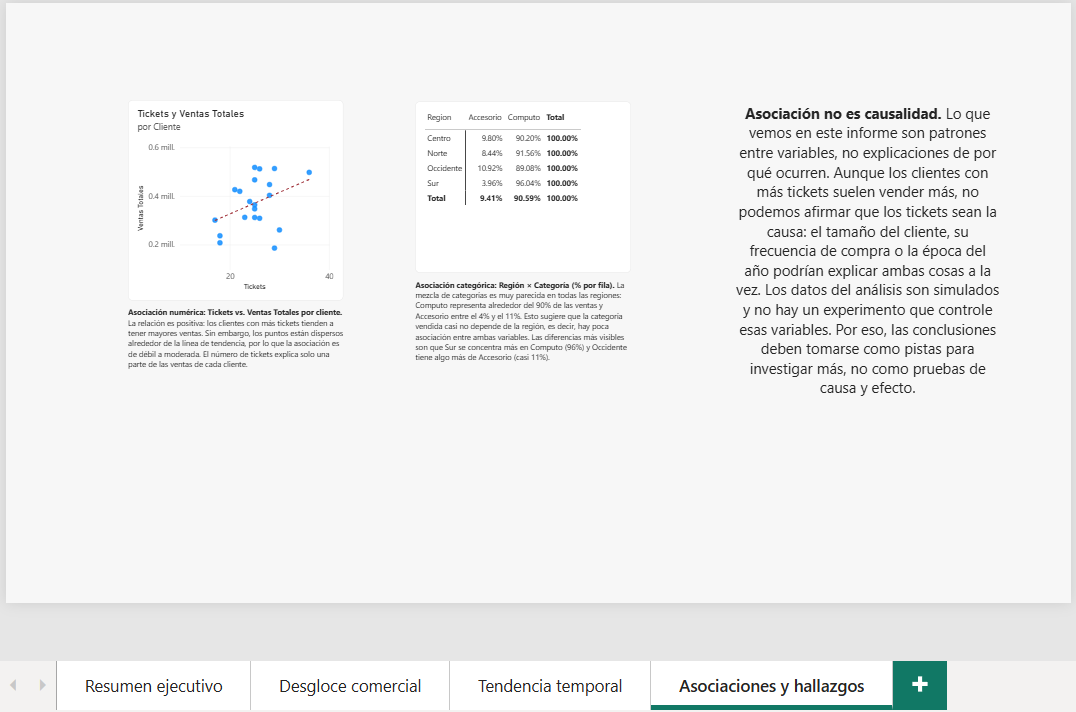

The dashboard page shown, as its layout file describes it:
{"tool":"powerbi","page":{"name":"Asociaciones y hallazgos","canvas":[1920,1080],"ordinal":3},"visuals":[{"type":"scatterChart","fields":{"Category":["Dim Cliente.Cliente"],"X":["Medidas.Tickets"],"Y":["Medidas.Ventas Totales"]},"box":[219,175.4,387.5,361.2],"z":0},{"type":"textbox","box":[219,546.6,387.5,138.8],"z":1},{"type":"pivotTable","fields":{"Columns":["Dim Producto.Categoria"],"Rows":["Dim Cliente.Region"],"Values":["Medidas.% por Fila Categoría"]},"box":[737.9,178.1,388.6,308.6],"z":2},{"type":"textbox","box":[737.9,496.6,388.6,165.7],"z":3},{"type":"textbox","box":[1315,180,475,575],"z":4}]}

Visuals, with their boxes on the page's 1920x1080 design canvas (x1, y1, x2, y2). These are canvas units, not pixel positions in the 1076x712 screenshot, which may show the page scaled, cropped or inside an application window:
scatterChart - Dim Cliente.Cliente x Medidas.Tickets: [219,175,606,537]
textbox: [219,547,606,685]
pivotTable - Dim Producto.Categoria x Dim Cliente.Region: [738,178,1126,487]
textbox: [738,497,1126,662]
textbox: [1315,180,1790,755]
